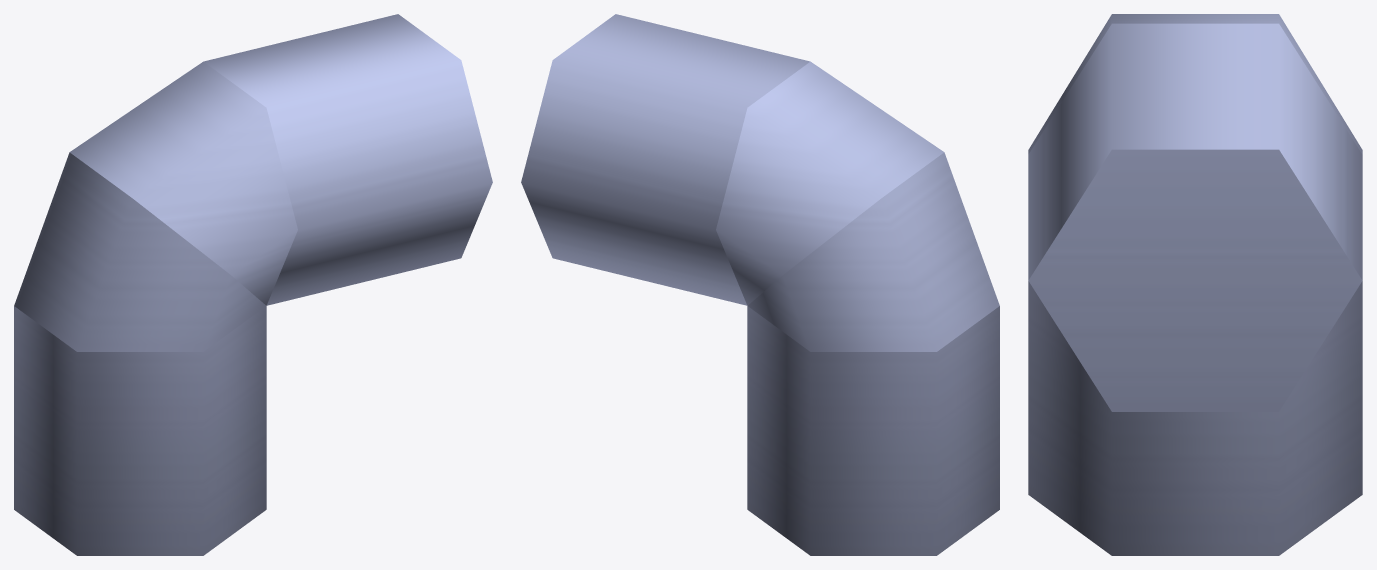
The model's file is cc0-pipe-bend-lod0.glb.
3 views of the same model, side by side, from view 1: azimuth 30°, elevation 25°; view 2: azimuth 150°, elevation 25°; view 3: azimuth 270°, elevation 25° (orthographic). The views are drawn at different scales.
Parts seen in each view (by area): view 1: part_0; view 2: part_0; view 3: part_0.
Boxes of the visible parts, x1=… form: part_0: x1=14, y1=14, x2=492, y2=555; part_0: x1=521, y1=14, x2=999, y2=555; part_0: x1=1028, y1=14, x2=1362, y2=555.
Bounding box in the file's own units: 0.5 × 0.5 × 0.2845.
Materials: 1 (1 with a texture image).
